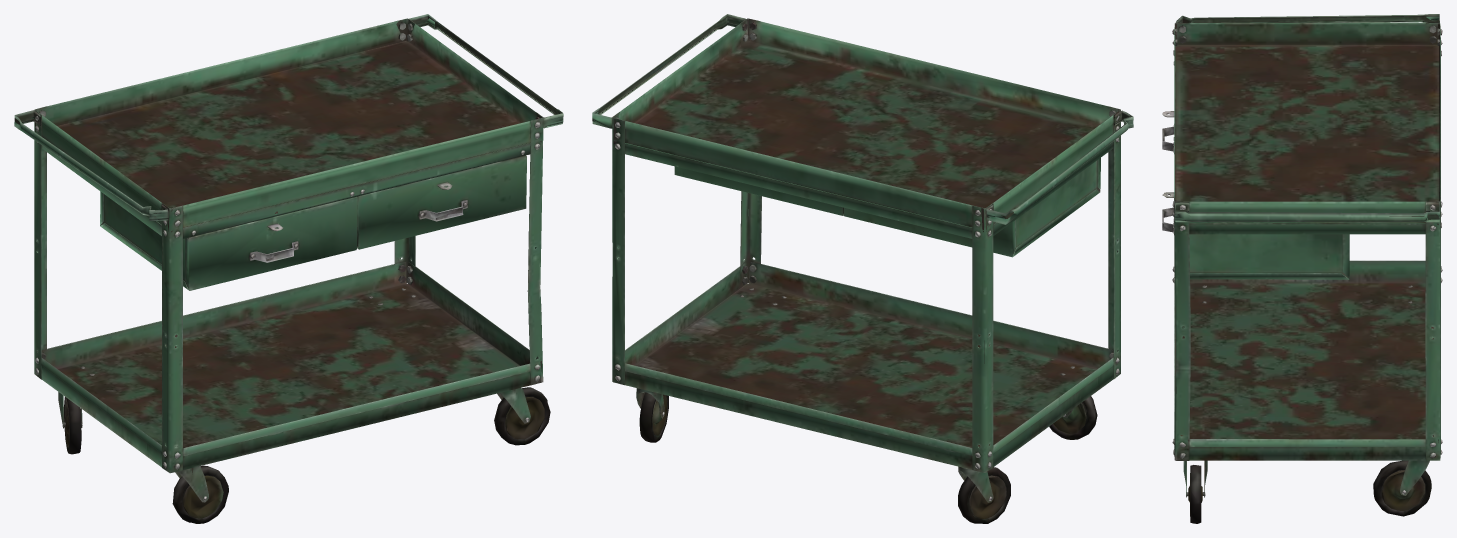
Rendered from tool_cart.glb.
The picture shows the model from 3 angles, left to right: view 1: azimuth 30°, elevation 25°; view 2: azimuth 150°, elevation 25°; view 3: azimuth 270°, elevation 25°; orthographic projection. The views are drawn at different scales.
Parts seen in each view (by area): view 1: tool_cart; view 2: tool_cart; view 3: tool_cart.
Part boxes in pixels (box(x1,y1,x2,y2)): tool_cart: box(14, 14, 563, 523); tool_cart: box(592, 14, 1133, 523); tool_cart: box(1162, 14, 1442, 523).
Bounding box in the file's own units: 1.27 × 0.9646 × 0.7522.
Materials: 1 (1 with a texture image).
